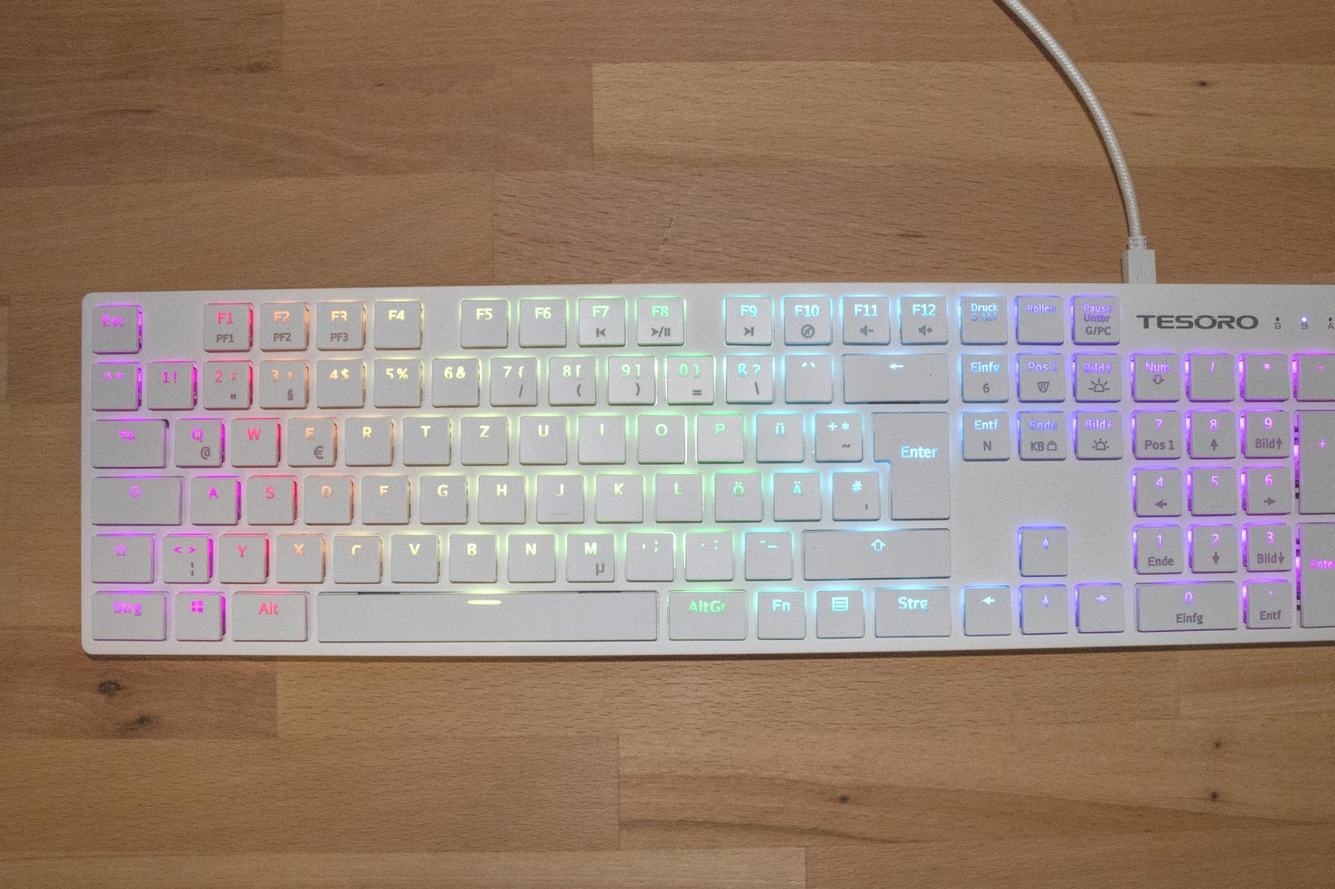0: (662, 350, 714, 402)
1: (143, 358, 193, 407)
2: (198, 358, 249, 407)
3: (255, 356, 306, 405)
4: (313, 355, 363, 405)
5: (370, 355, 419, 405)
6: (429, 352, 479, 404)
7: (486, 353, 535, 404)
8: (544, 352, 595, 404)
9: (602, 352, 654, 402)
a: (187, 472, 236, 523)
accent: (781, 349, 831, 400)
ae: (769, 467, 820, 520)
alt-left: (225, 587, 306, 639)
altgr-right: (663, 586, 747, 639)
b: (444, 528, 496, 581)
c: (329, 529, 380, 580)
caret: (88, 358, 136, 407)
comma: (623, 527, 673, 579)
d: (299, 471, 349, 523)
del: (840, 349, 946, 401)
e: (282, 413, 334, 464)
enter: (868, 407, 949, 518)
f: (357, 471, 407, 522)
g: (416, 471, 465, 522)
h: (474, 471, 524, 522)
hash: (828, 468, 879, 519)
i: (575, 410, 624, 461)
j: (533, 468, 583, 520)
k: (592, 468, 642, 520)
keyboard: (68, 276, 1335, 660)
l: (650, 468, 701, 520)
less: (157, 530, 209, 580)
m: (561, 528, 613, 581)
minus: (740, 527, 791, 578)
n: (503, 528, 554, 581)
o: (633, 410, 685, 461)
oe: (711, 468, 761, 520)
p: (693, 408, 743, 460)
plus: (810, 407, 861, 459)
point: (682, 527, 731, 578)
q: (170, 414, 221, 465)
r: (340, 413, 391, 464)
s: (242, 472, 294, 523)
shift-left: (86, 531, 152, 581)
shift-lock: (87, 472, 179, 523)
shift-right: (800, 525, 948, 577)
space: (311, 586, 656, 641)
ss: (720, 350, 772, 401)
strg-left: (83, 586, 165, 639)
strg-right: (870, 583, 951, 636)
t: (398, 411, 449, 463)
tab: (88, 415, 164, 465)
u: (516, 410, 566, 462)
ue: (751, 408, 802, 460)
v: (387, 529, 438, 581)
w: (226, 414, 277, 465)
x: (273, 530, 323, 581)
y: (215, 531, 265, 581)
z: (457, 411, 507, 462)
